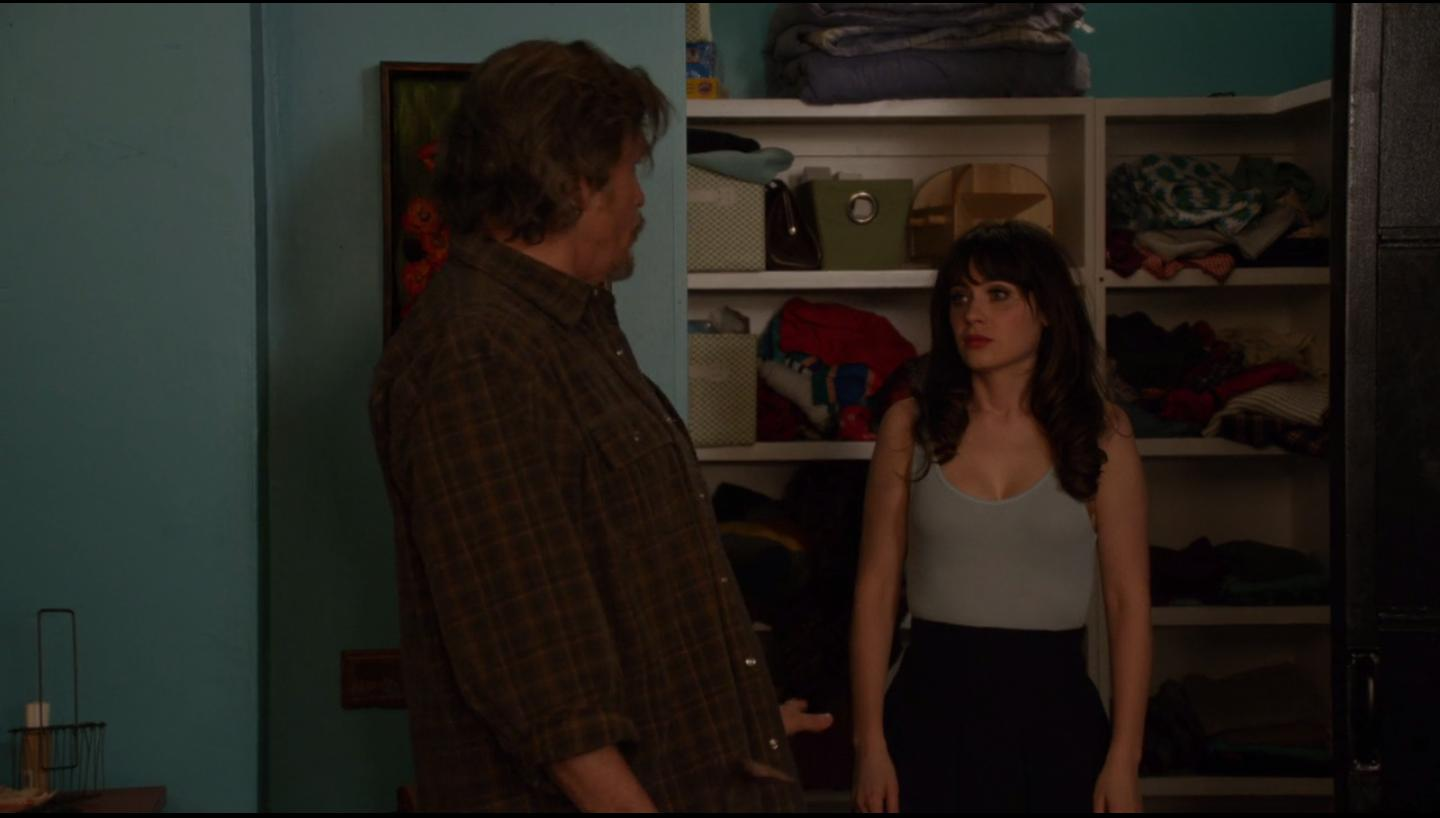person: (365, 39, 805, 813), (833, 210, 1172, 812)
